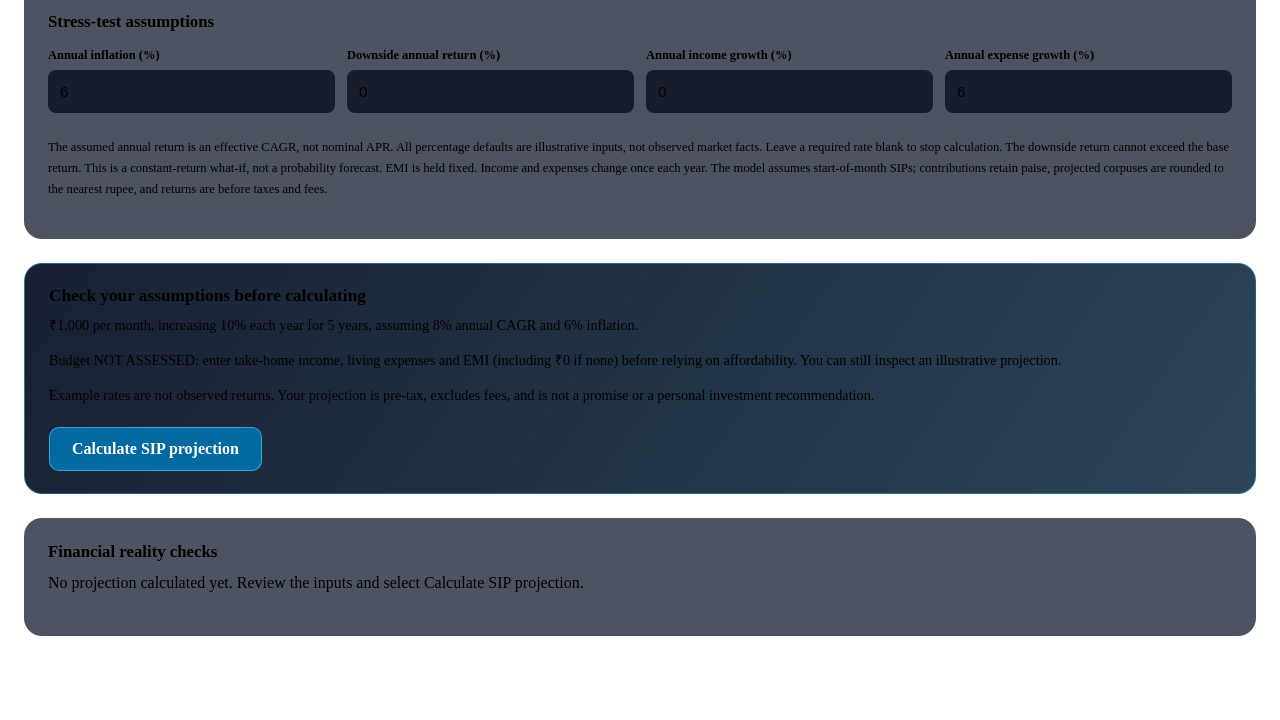
shows a safe backend failure rather than inventing numerical results
The width and height of the screenshot is (1280, 720).
(page scrolled)
Click the button "Calculate SIP projection" at (155, 449), box [49,427,262,471]
(page scrolled)
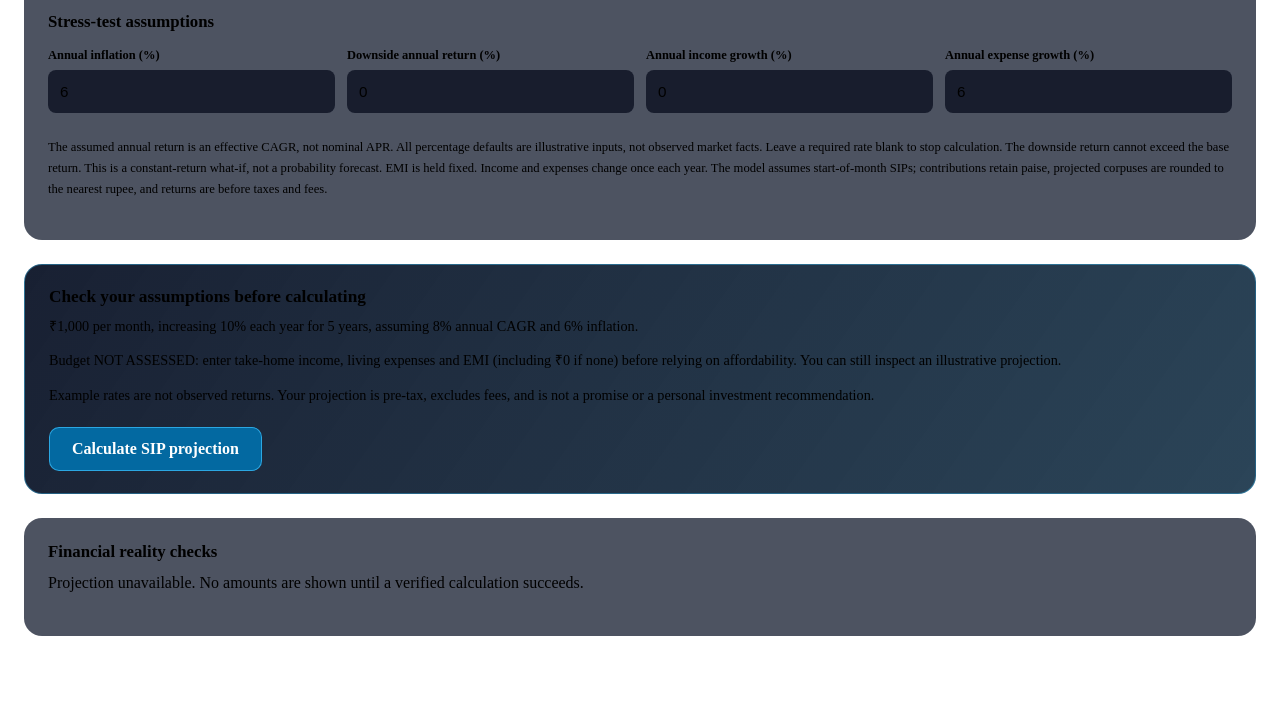
Result: the text "No amounts are shown until a verified calculation succeeds" is shown at [48,574,584,591]
